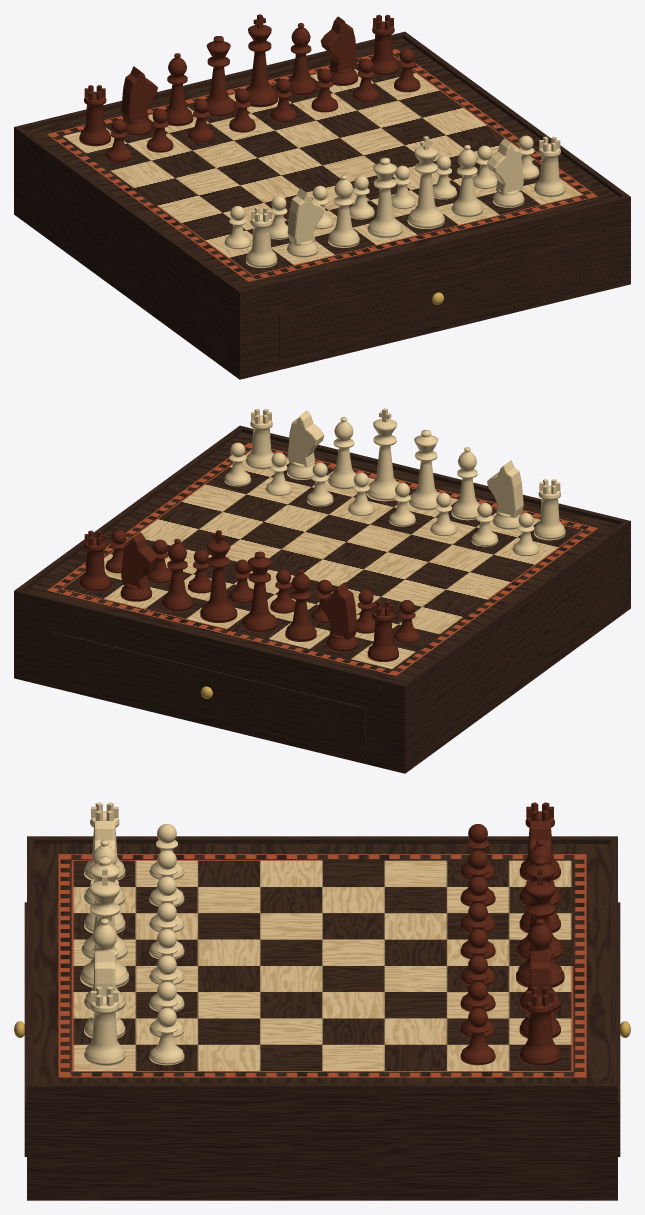
The model's file is philidor-3d-noyer-erable-38-v2.glb.
3 views of the same model, one above another, from view 1: azimuth 30°, elevation 25°; view 2: azimuth 150°, elevation 25°; view 3: azimuth 270°, elevation 25° (orthographic). The views are drawn at different scales.
Parts seen in each view (by area): view 1: noyer-erable-38; view 2: noyer-erable-38; view 3: noyer-erable-38.
Part boxes in pixels (x1,y1,x2,y2): noyer-erable-38: (14,14,630,379); noyer-erable-38: (14,408,630,773); noyer-erable-38: (14,802,630,1200).
Size of what is drawn, in the model's own units: 0.38 by 0.156 by 0.3967.
6 materials, 3 textured.
